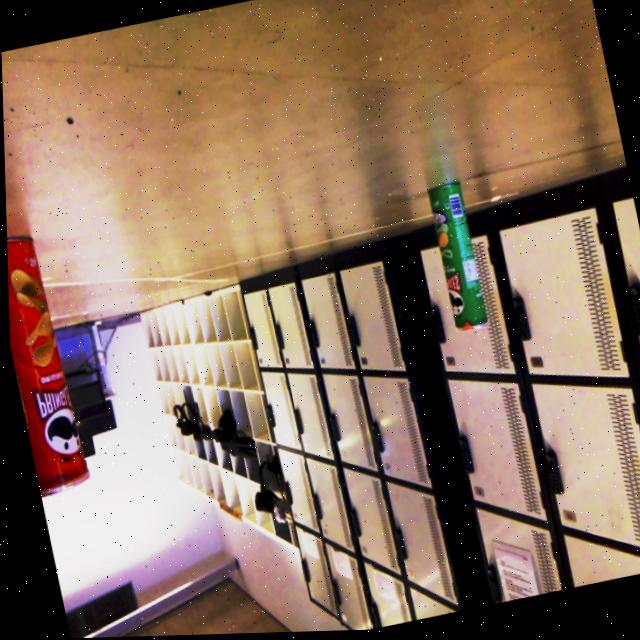greenpringles: (401, 169, 511, 365)
redpringles: (5, 211, 109, 515)
